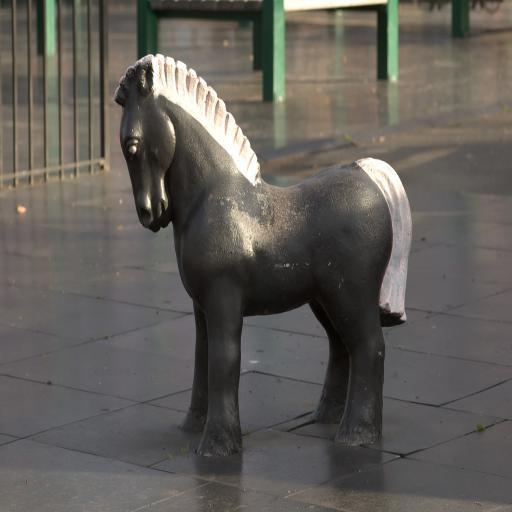Horse: (116, 50, 414, 458)
